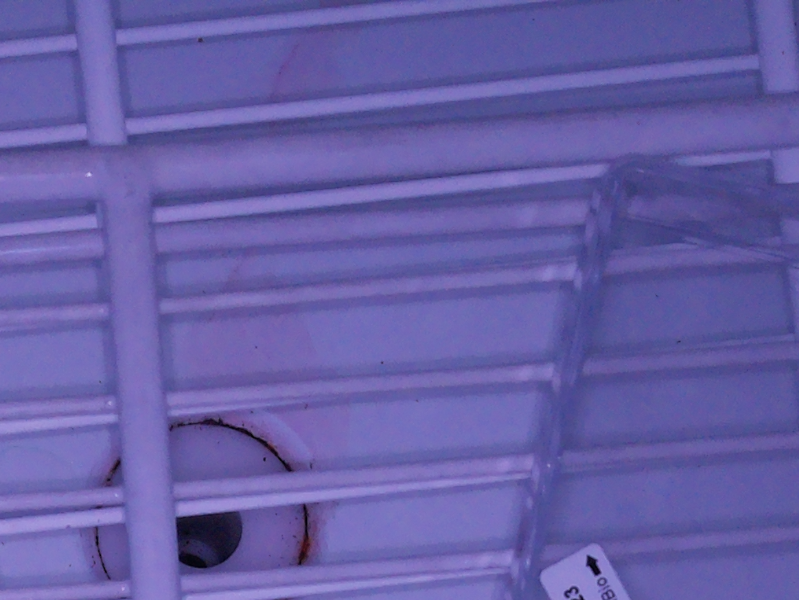plate: (502, 151, 799, 600)
